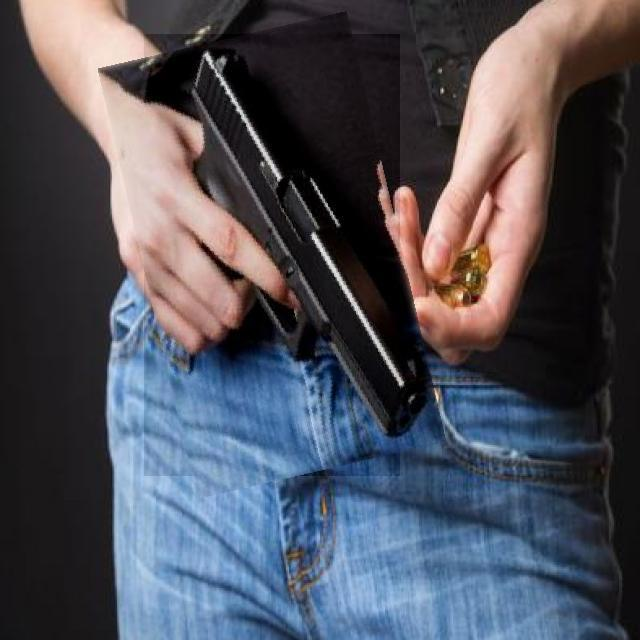handgun: (121, 22, 423, 488)
